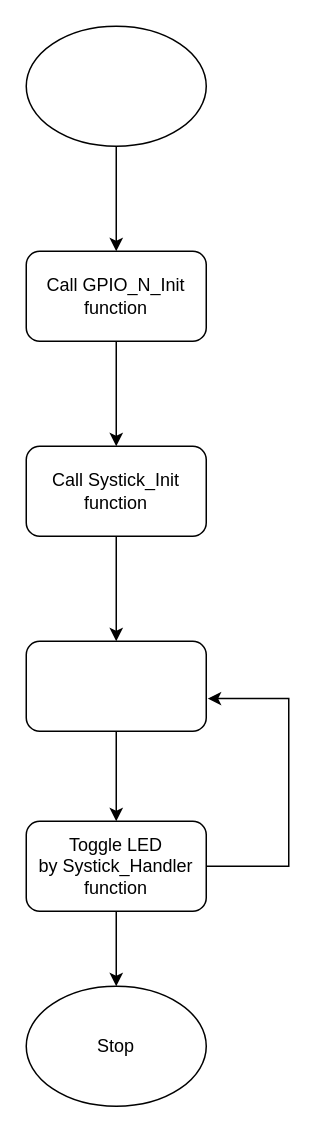
Image size: 327x1133. Some labels were removed from this diagram. The centre of each missing label's shape, as x and y in pixels:
"Infinite loop" belongs at [115,685].
"Start" belongs at [115,85].
